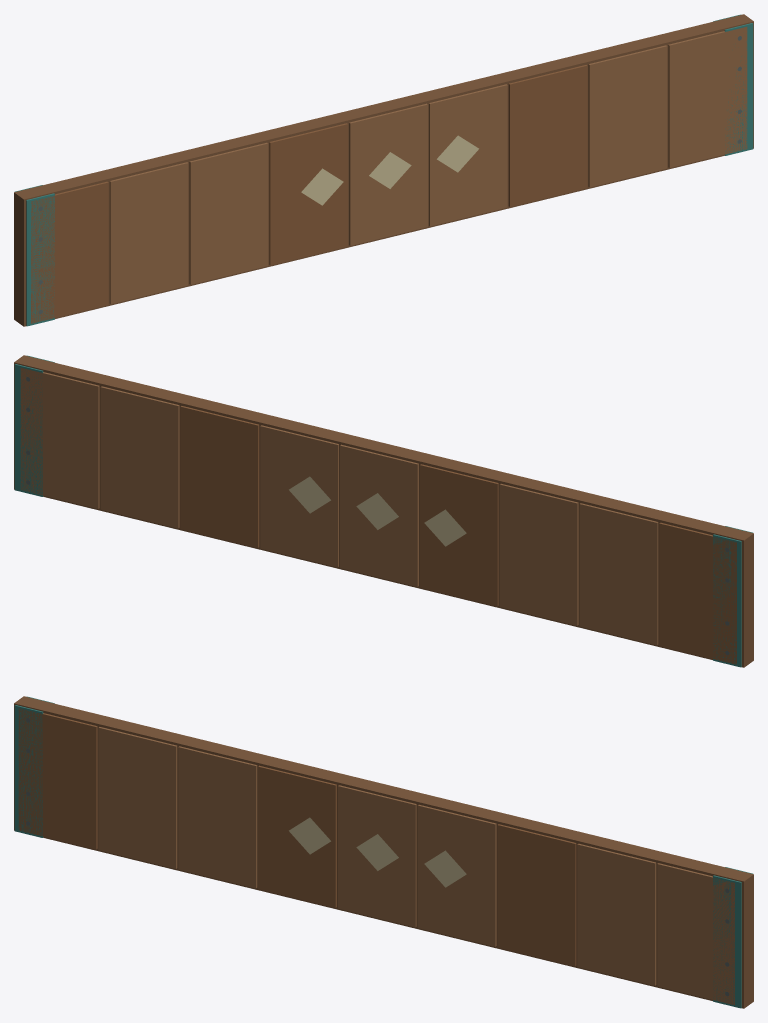
File: w10b-riding-rail-apron.glb
The picture shows the model from 3 angles, top to bottom: view 1: azimuth 30°, elevation 25°; view 2: azimuth 150°, elevation 25°; view 3: azimuth 330°, elevation 25°; orthographic projection.
Visible parts, largest first — view 1: W10b optional oak apron; view 2: W10b optional oak apron; view 3: W10b optional oak apron.
Boxes of the visible parts, left/top/right/bottom form: W10b optional oak apron: left=14, top=14, right=753, bottom=326; W10b optional oak apron: left=14, top=355, right=753, bottom=667; W10b optional oak apron: left=14, top=696, right=753, bottom=1008.
Size of the model in its own units: 4.09 by 0.682 by 0.122.
